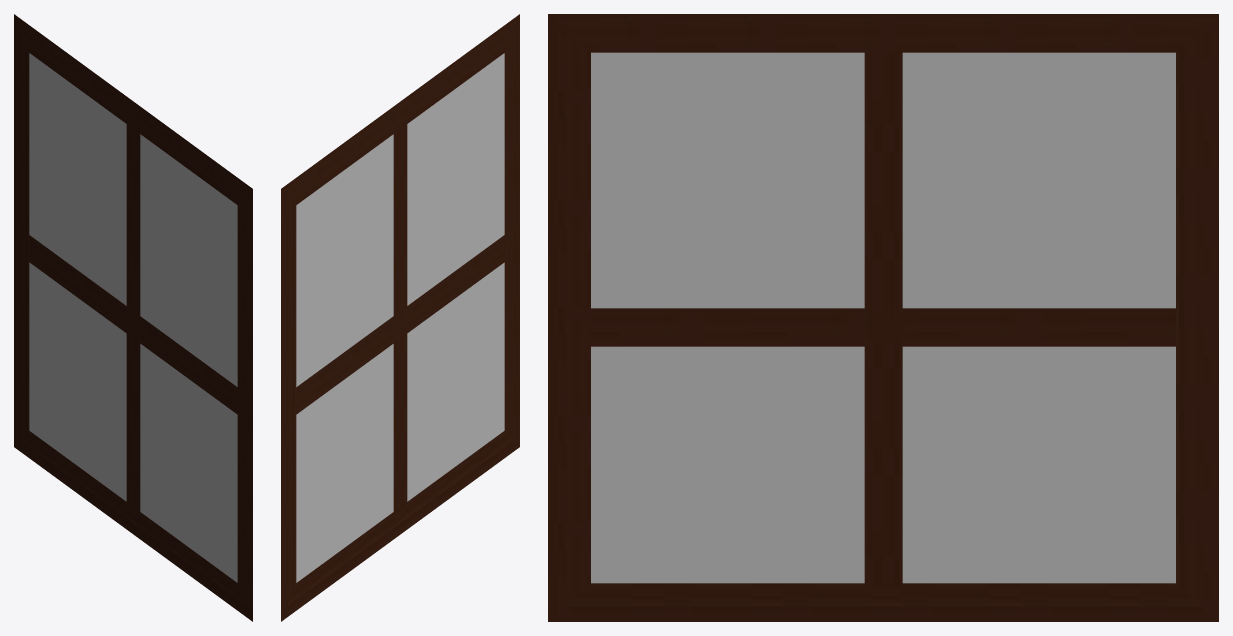
The model's file is window_plane.glb.
The picture shows the model from 3 angles, left to right: view 1: azimuth 30°, elevation 25°; view 2: azimuth 150°, elevation 25°; view 3: azimuth 270°, elevation 25°; orthographic projection. The views are drawn at different scales.
Parts seen in each view (by area): view 1: window_plane; view 2: window_plane; view 3: window_plane.
Boxes of the visible parts, x1,y1,x2,y2 form: window_plane: (14,14,252,621); window_plane: (281,14,519,621); window_plane: (548,14,1218,621).
Bounding box in the file's own units: 1.56e-07 × 2 × 2.
2 materials, 1 textured.
